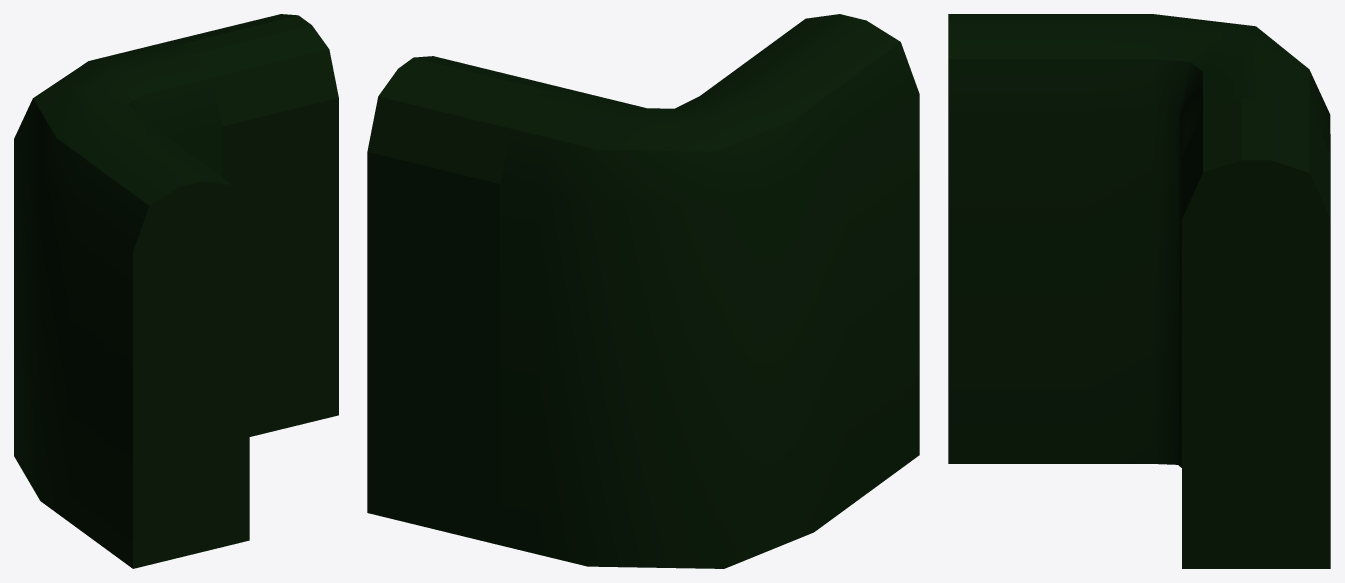
The model's file is 90 Degree Hedge.FBX.
3 renders of one model, left to right at view 1: azimuth 30°, elevation 25°; view 2: azimuth 150°, elevation 25°; view 3: azimuth 270°, elevation 25°, orthographic. The views are drawn at different scales.
Visible parts, largest first — view 1: 90 Degree Hedge; view 2: 90 Degree Hedge; view 3: 90 Degree Hedge.
Boxes of the visible parts, x1=… form: 90 Degree Hedge: x1=14, y1=14, x2=338, y2=568; 90 Degree Hedge: x1=367, y1=14, x2=919, y2=568; 90 Degree Hedge: x1=948, y1=14, x2=1330, y2=568.
Bounding box in the file's own units: 2.67 × 3.04 × 2.57.
